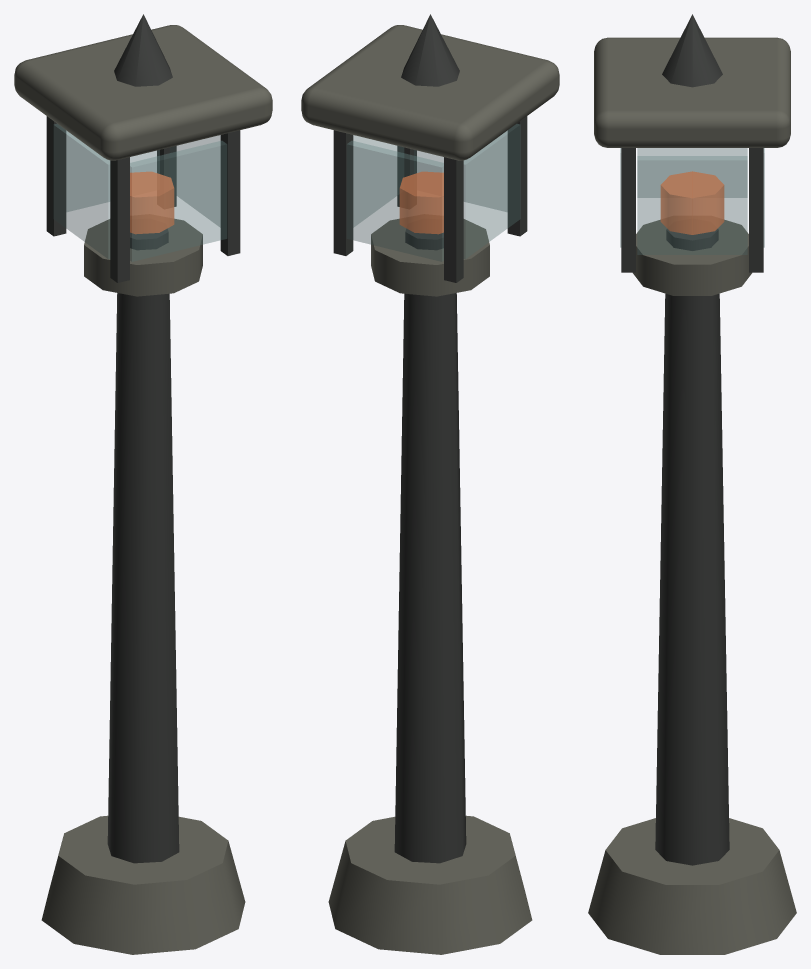
The model's file is sk_lamp_post.glb.
The picture shows the model from 3 angles, left to right: view 1: azimuth 30°, elevation 25°; view 2: azimuth 150°, elevation 25°; view 3: azimuth 270°, elevation 25°; orthographic projection.
Visible parts, largest first — view 1: metal, object 3, object 2; view 2: metal, object 3, object 2; view 3: metal, object 3, object 2.
Boxes of the visible parts, <box> form: metal: <box>14,14,272,954</box>; object 3: <box>53,124,226,261</box>; object 2: <box>130,171,174,234</box>; metal: <box>301,14,559,954</box>; object 3: <box>347,124,520,261</box>; object 2: <box>399,171,443,234</box>; metal: <box>588,14,796,954</box>; object 3: <box>620,148,764,254</box>; object 2: <box>660,171,724,234</box>.
Bounding box in the file's own units: 0.3424 × 1.71 × 0.36.
